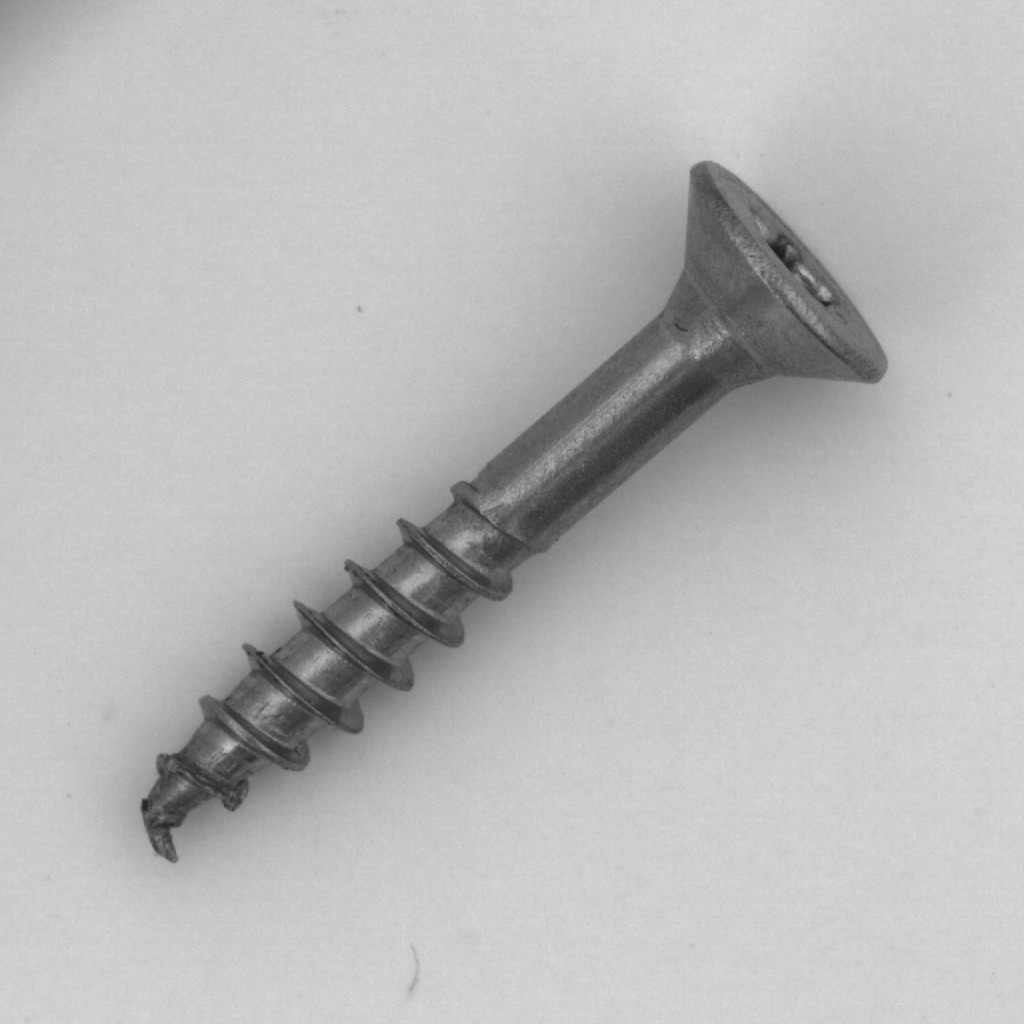manipulated_front: (105, 730, 264, 890)
